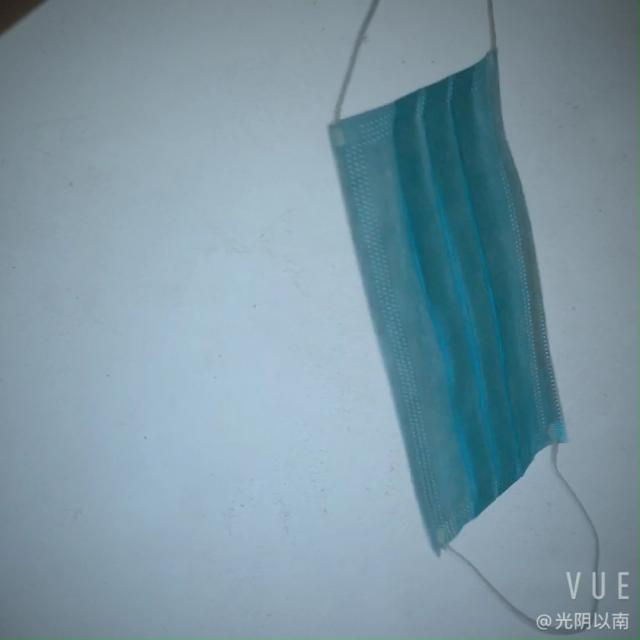face mask: (328, 50, 572, 526)
